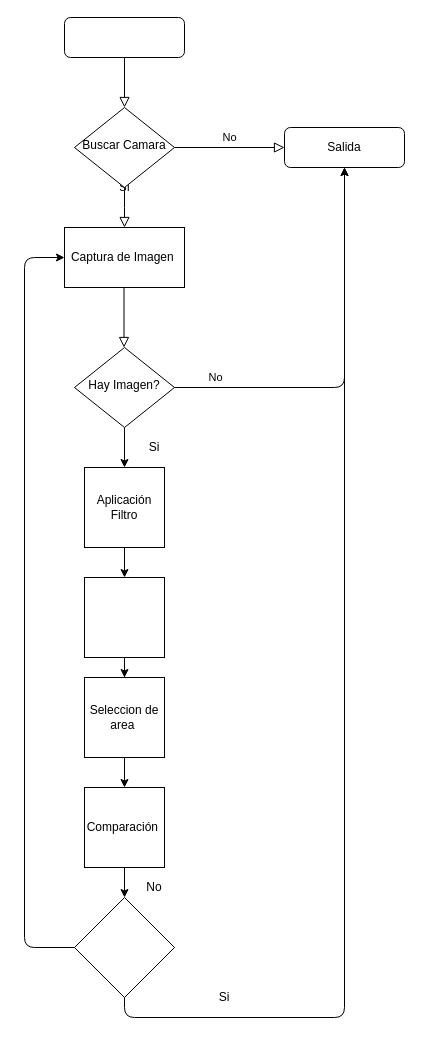
Some shapes in this 422 by 1043 pixel diagram are drawn without their labels. The shapes that lost their labels are listed below. From the top down, each one's centre as x and y in pixels, then its label:
At (x=124, y=37): "Inicio".
At (x=124, y=617): "Mostrar Video".
At (x=124, y=947): "Determina rango de valores".
